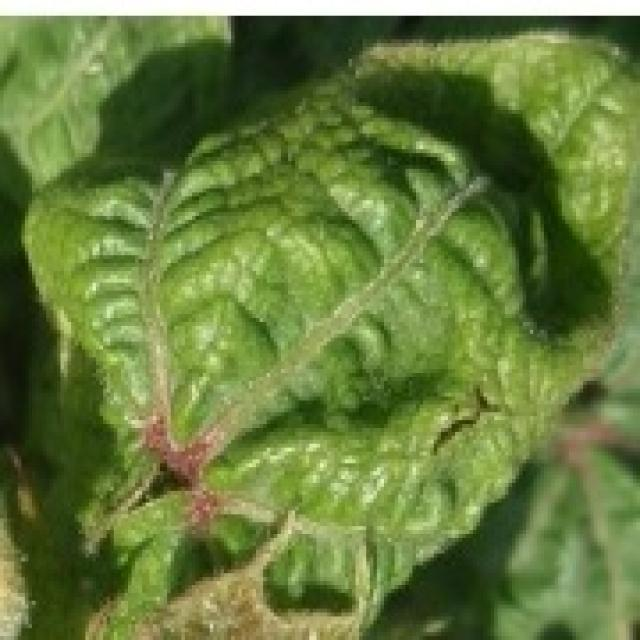Leaf Curl Virus: (39, 116, 573, 542)
